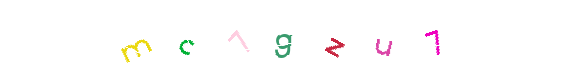7: (212, 0, 292, 80), (394, 0, 474, 80)
C: (205, 0, 285, 80)
G: (252, 0, 332, 80)
M: (95, 0, 175, 80)
U: (343, 0, 423, 80)
Z: (294, 0, 374, 80)
